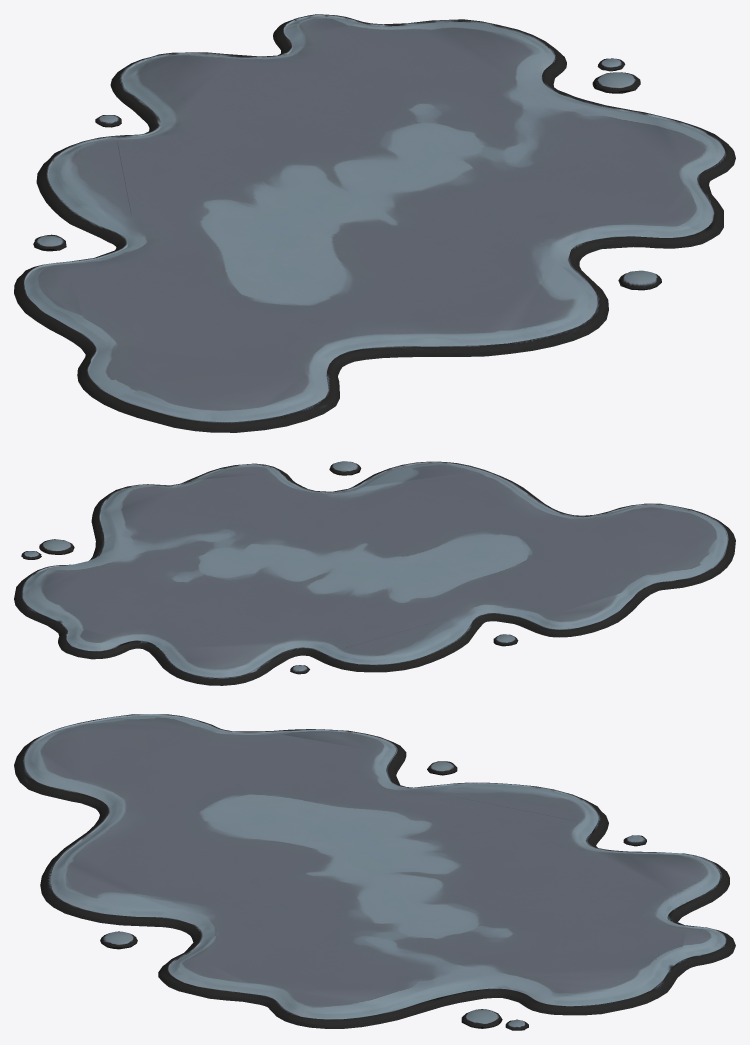
File: oil.glb
The picture shows the model from 3 angles, top to bottom: view 1: azimuth 30°, elevation 25°; view 2: azimuth 150°, elevation 25°; view 3: azimuth 270°, elevation 25°; orthographic projection. The views are drawn at different scales.
Parts seen in each view (by area): view 1: tripo_node_b691e350-52a1-4145-8121-ab2faf50fcb8; view 2: tripo_node_b691e350-52a1-4145-8121-ab2faf50fcb8; view 3: tripo_node_b691e350-52a1-4145-8121-ab2faf50fcb8.
Boxes of the visible parts, bbox=[...] form: tripo_node_b691e350-52a1-4145-8121-ab2faf50fcb8: bbox=[14, 14, 735, 432]; tripo_node_b691e350-52a1-4145-8121-ab2faf50fcb8: bbox=[14, 461, 735, 685]; tripo_node_b691e350-52a1-4145-8121-ab2faf50fcb8: bbox=[14, 714, 735, 1030].
Bounding box in the file's own units: 3.3 × 0.0453 × 3.2.
Materials: 1 (1 with a texture image).
